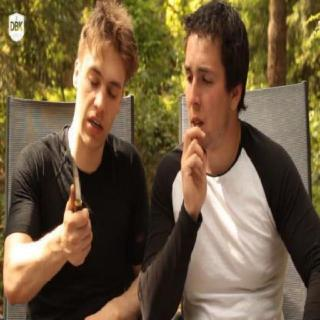knife: (62, 140, 94, 249)
